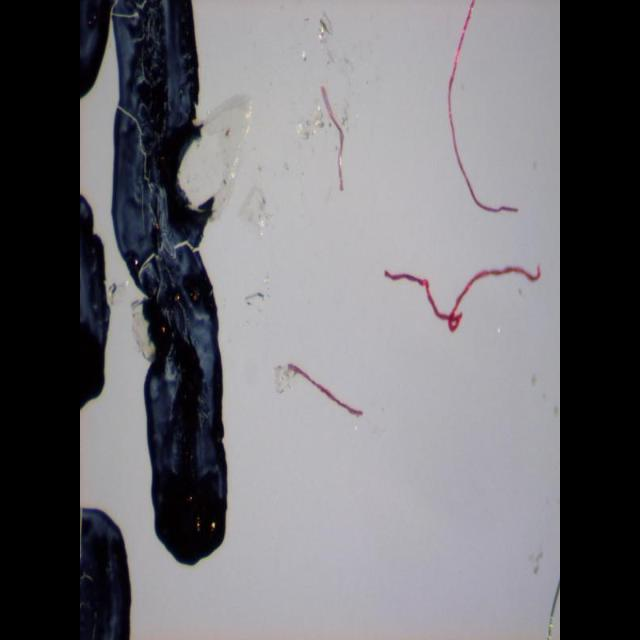Fibre: (110, 3, 250, 569)
